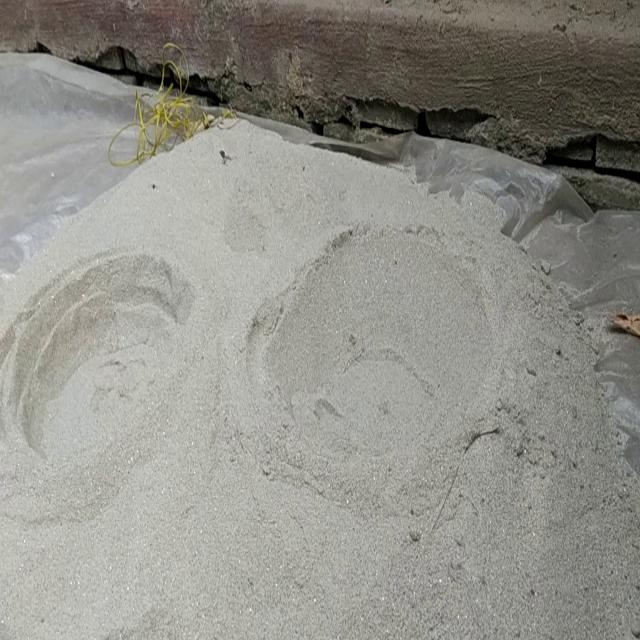C20: (248, 229, 499, 513), (3, 257, 185, 461)
